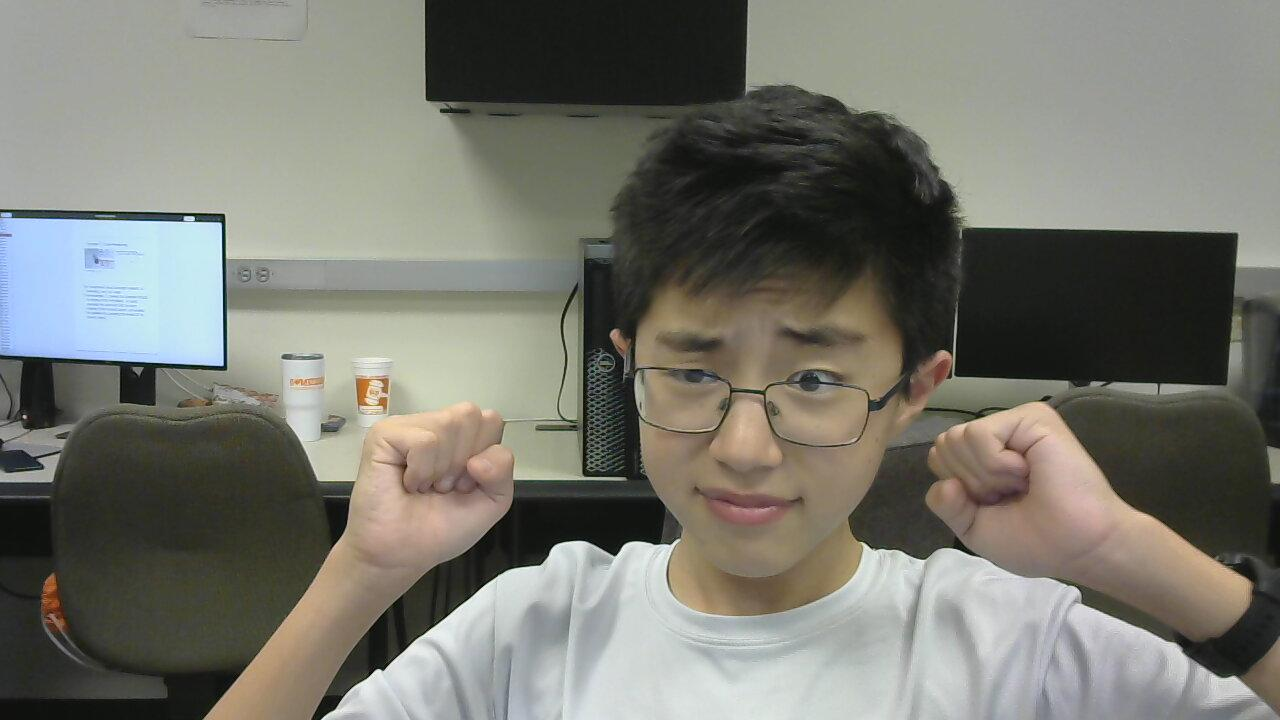fist: (928, 404, 1132, 578), (323, 409, 537, 569)
